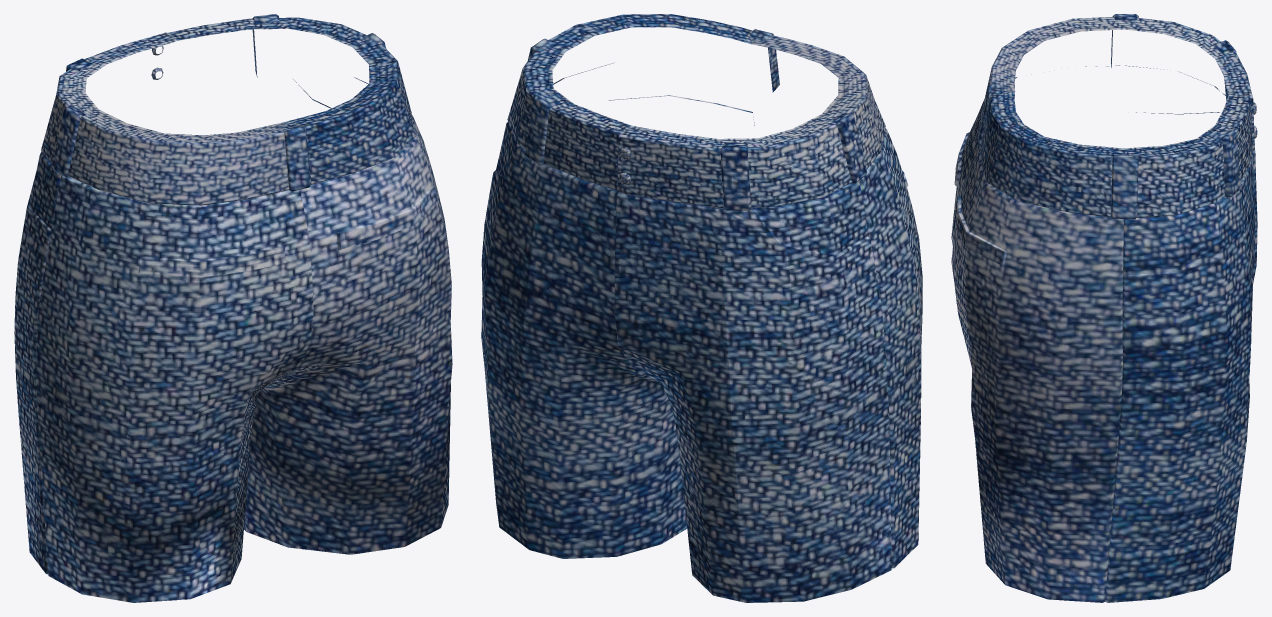
Rendered from CowBoy_Pants.gltf.
3 renders of one model, left to right at view 1: azimuth 30°, elevation 25°; view 2: azimuth 150°, elevation 25°; view 3: azimuth 270°, elevation 25°, orthographic. The views are drawn at different scales.
Visible parts, largest first — view 1: CowBoy_Pants; view 2: CowBoy_Pants; view 3: CowBoy_Pants.
Boxes of the visible parts, x1,y1,x2,y2 form: CowBoy_Pants: (14, 14, 452, 602); CowBoy_Pants: (481, 14, 922, 602); CowBoy_Pants: (951, 14, 1257, 602).
Size of the model in its own units: 0.1911 by 0.2159 by 0.1372.
Materials: 1 (1 with a texture image).
